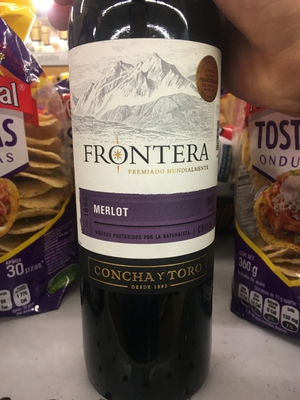frontera merlot: (65, 9, 243, 381)
